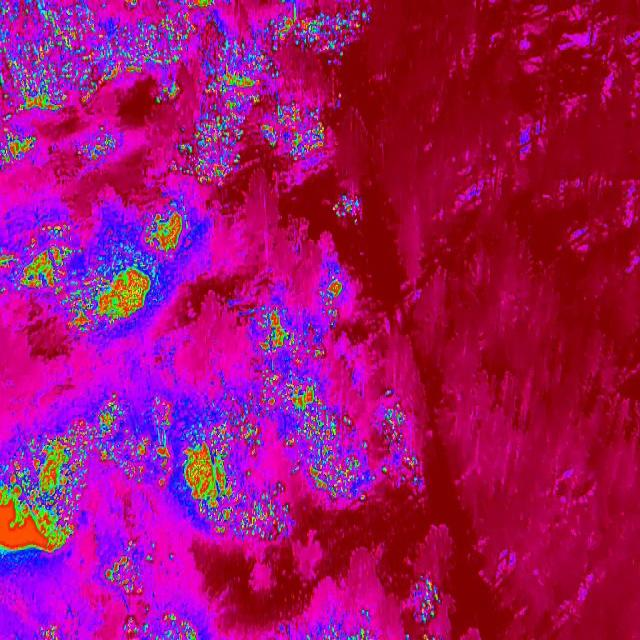fire: (0, 194, 213, 337), (96, 386, 290, 540), (253, 273, 374, 507), (0, 0, 189, 115), (190, 0, 288, 184), (0, 415, 90, 564), (292, 0, 369, 66), (265, 97, 335, 164), (375, 405, 423, 494), (105, 533, 158, 596), (77, 122, 126, 166), (0, 132, 37, 176)
